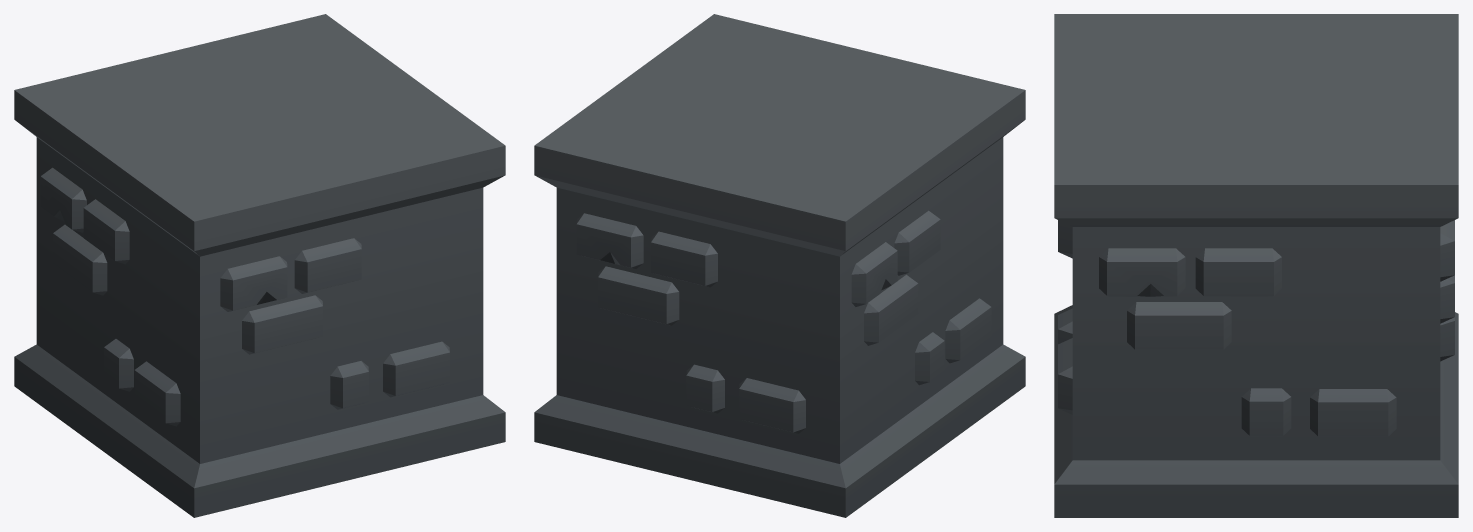
Rendered from kcas_foundation.glb.
The picture shows the model from 3 angles, left to right: view 1: azimuth 30°, elevation 25°; view 2: azimuth 150°, elevation 25°; view 3: azimuth 270°, elevation 25°; orthographic projection. The views are drawn at different scales.
Parts seen in each view (by area): view 1: floor_foundation_allsides; view 2: floor_foundation_allsides; view 3: floor_foundation_allsides.
Boxes of the visible parts, bbox=[...] form: floor_foundation_allsides: bbox=[14, 14, 505, 517]; floor_foundation_allsides: bbox=[534, 14, 1025, 517]; floor_foundation_allsides: bbox=[1054, 14, 1458, 517].
Size of the model in its own units: 2.2 by 2 by 2.2.
Materials: 1 (1 with a texture image).
